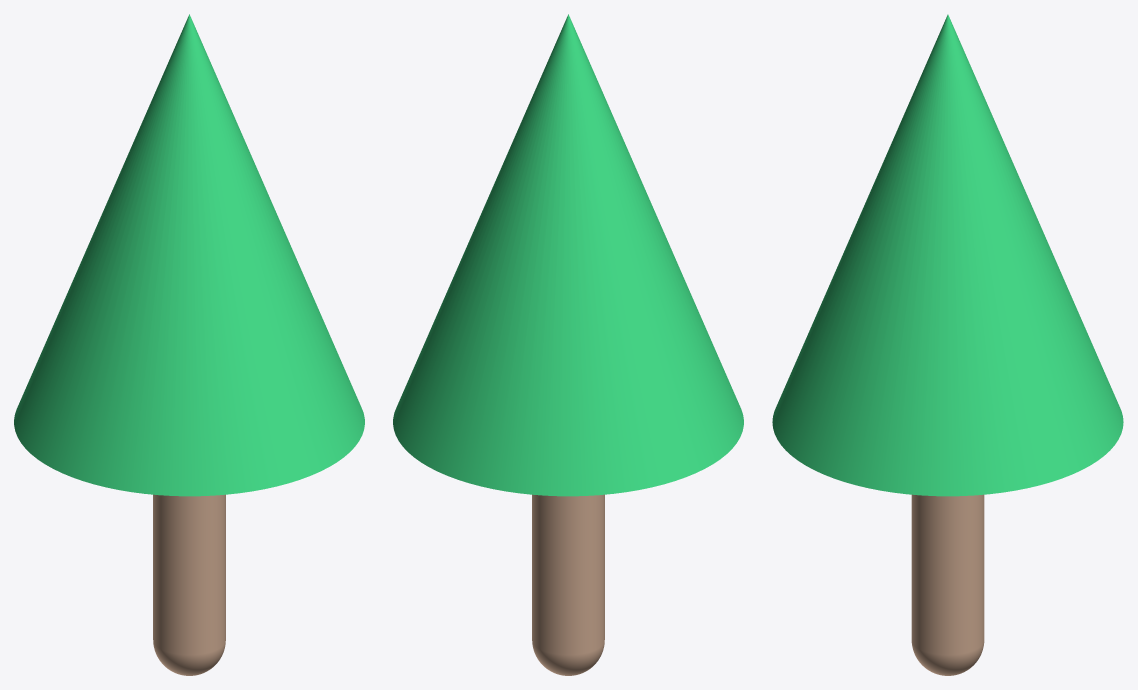
File: rescaled_shitty_tree.fbx
3 renders of one model, left to right at view 1: azimuth 30°, elevation 25°; view 2: azimuth 150°, elevation 25°; view 3: azimuth 270°, elevation 25°, orthographic.
Parts seen in each view (by area): view 1: root.002, root.001; view 2: root.002, root.001; view 3: root.002, root.001.
Boxes of the visible parts, x1=… form: root.002: x1=14, y1=14, x2=364, y2=496; root.001: x1=153, y1=494, x2=225, y2=675; root.002: x1=393, y1=14, x2=743, y2=496; root.001: x1=532, y1=494, x2=604, y2=675; root.002: x1=772, y1=14, x2=1123, y2=496; root.001: x1=911, y1=494, x2=984, y2=675.
Size of the model in its own units: 4.91 by 10.16 by 4.91.
